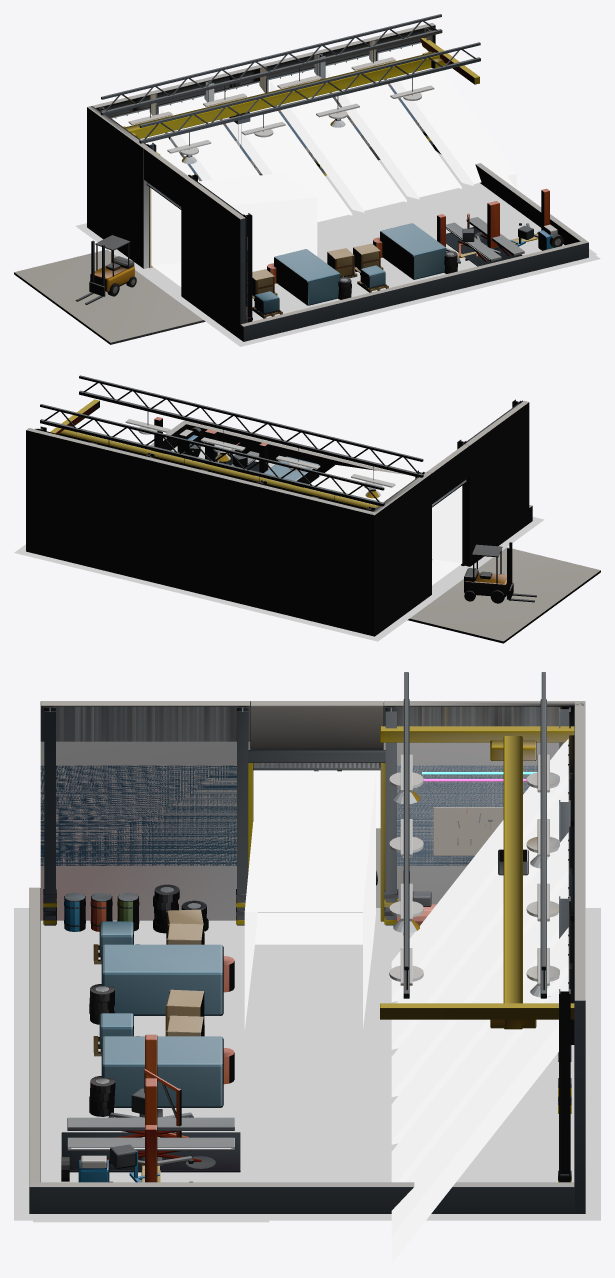
Rendered from sanayi.glb.
The picture shows the model from 3 angles, top to bottom: view 1: azimuth 30°, elevation 25°; view 2: azimuth 150°, elevation 25°; view 3: azimuth 270°, elevation 25°; orthographic projection. The views are drawn at different scales.
Parts seen in each view (by area): view 1: Shell, Park_L1, Beam_Door, Decal_Park_L1, Beam_Win_4, Beam_Win_5, Beam_Win_3, Beam_Win_2, Decal_Walls_L3, Beam_Win_1, Lift_L3, Props (+9 smaller); view 2: Shell, Beam_Door, Decal_Walls_L3, Props, Lights_L2, Decal_Park_L1, Lift_L2, Lift_L3, Park_L1, Decal_Park_L2; view 3: Shell, Decal_Walls_L3, Walls_L3, Walls_L2, Beam_Door, Park_L1, Decal_Park_L1, Beam_Win_5, Lift_L3, Decal_Park_L2, Beam_Win_4, Beam_Win_2 (+9 smaller).
Part boxes in pixels (x1,y1,x2,y2): Shell: [14, 14, 588, 344]; Park_L1: [252, 223, 457, 318]; Beam_Door: [151, 173, 317, 286]; Decal_Park_L1: [164, 151, 541, 321]; Beam_Win_4: [325, 57, 461, 199]; Beam_Win_5: [379, 43, 516, 188]; Beam_Win_3: [270, 70, 406, 212]; Beam_Win_2: [215, 83, 352, 222]; Decal_Walls_L3: [75, 172, 600, 346]; Beam_Win_1: [160, 97, 259, 180]; Lift_L3: [446, 217, 563, 266]; Props: [75, 235, 136, 304]; Shell: [26, 375, 600, 643]; Beam_Door: [304, 465, 462, 585]; Decal_Walls_L3: [14, 517, 544, 641]; Props: [464, 542, 536, 603]; Lights_L2: [125, 411, 395, 501]; Decal_Park_L1: [16, 450, 362, 635]; Lift_L2: [154, 417, 268, 472]; Lift_L3: [177, 427, 259, 475]; Park_L1: [259, 456, 319, 487]; Decal_Park_L2: [17, 447, 432, 634]; Shell: [29, 672, 585, 1213]; Decal_Walls_L3: [14, 908, 600, 1220]; Walls_L3: [40, 741, 571, 1061]; Walls_L2: [40, 765, 537, 865]; Beam_Door: [244, 771, 375, 1029]; Park_L1: [89, 909, 234, 1116]; Decal_Park_L1: [62, 922, 594, 1216]; Beam_Win_5: [391, 975, 568, 1263]; Lift_L3: [61, 1117, 240, 1182]; Decal_Park_L2: [40, 922, 594, 1163]; Beam_Win_4: [391, 927, 568, 1182]; Beam_Win_2: [391, 832, 568, 1096].
Size of the model in its own units: 25.59 by 7.8 by 15.4.
